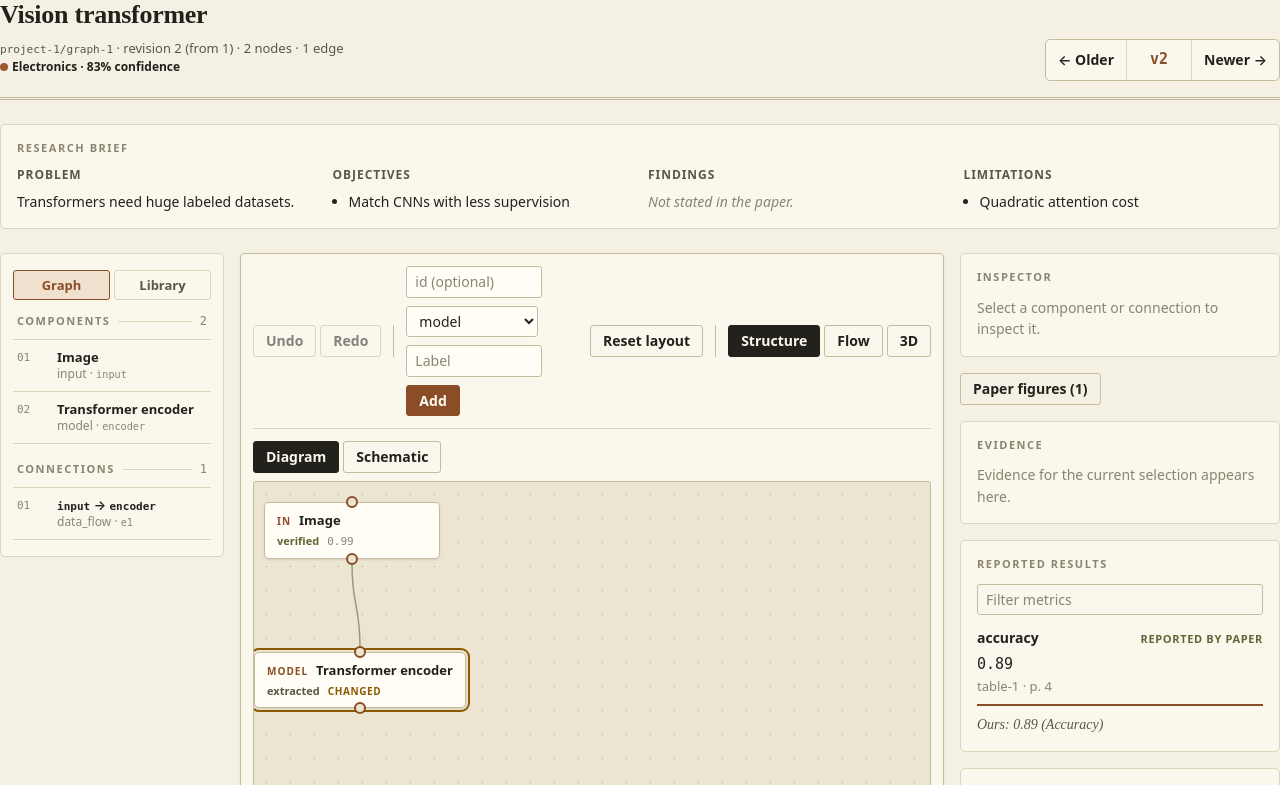
Test: WorkspacePage › loads a revision and inspects a selected node with evidence
The image size is (1280, 785).
Expected: the heading "Vision transformer" is shown, top-left (0, 0), bottom-right (207, 29)
Expected: the text "project-1/graph-1 · revision 2 (from 1) · 2 nodes · 1 edge" is shown, top-left (0, 38), bottom-right (344, 58)
Click the button "Transformer encoder model · encoder" at [112, 417], box top-left (13, 392), bottom-right (211, 443)
(page scrolled)
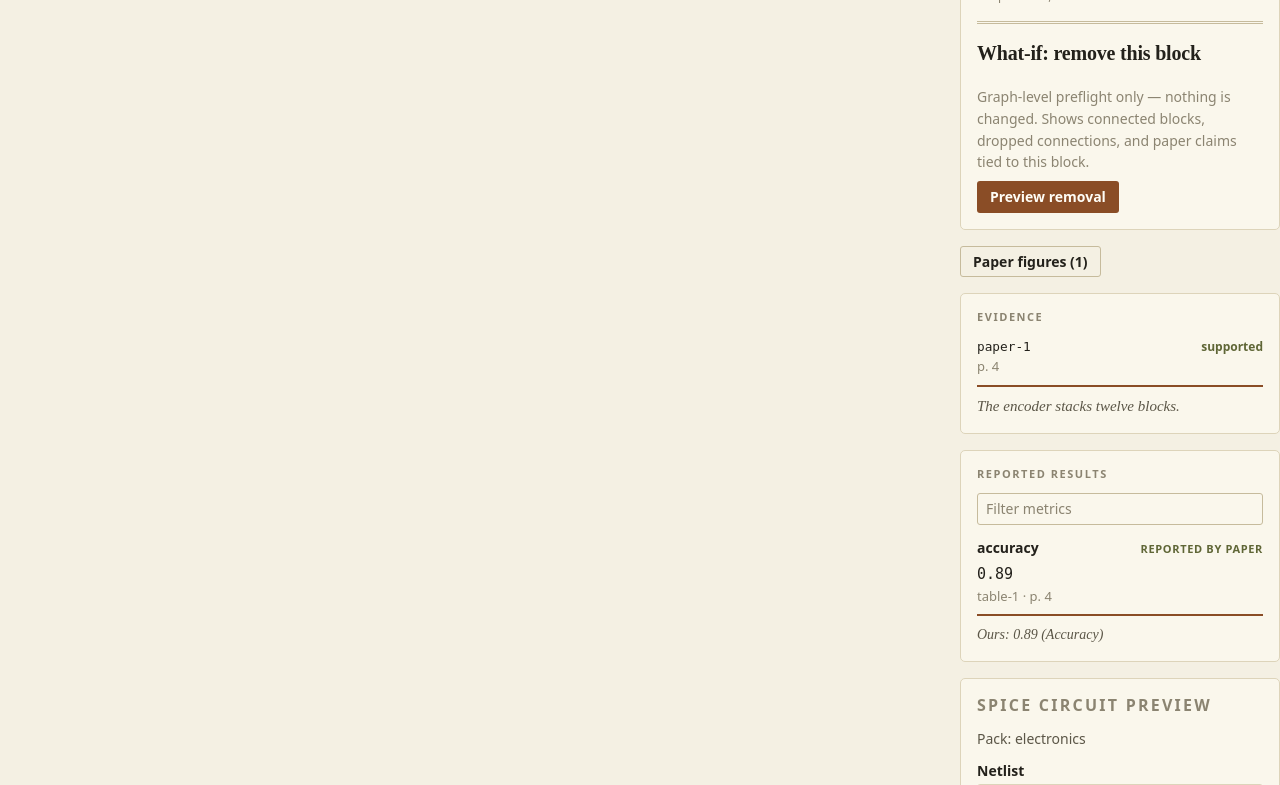
Expected: the text "The encoder stacks twelve blocks." is shown, top-left (977, 385), bottom-right (1263, 417)
